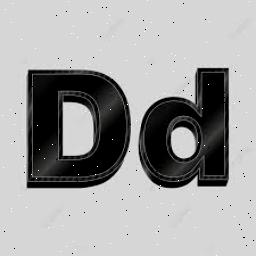d: (16, 46, 136, 196), (134, 55, 242, 195)
